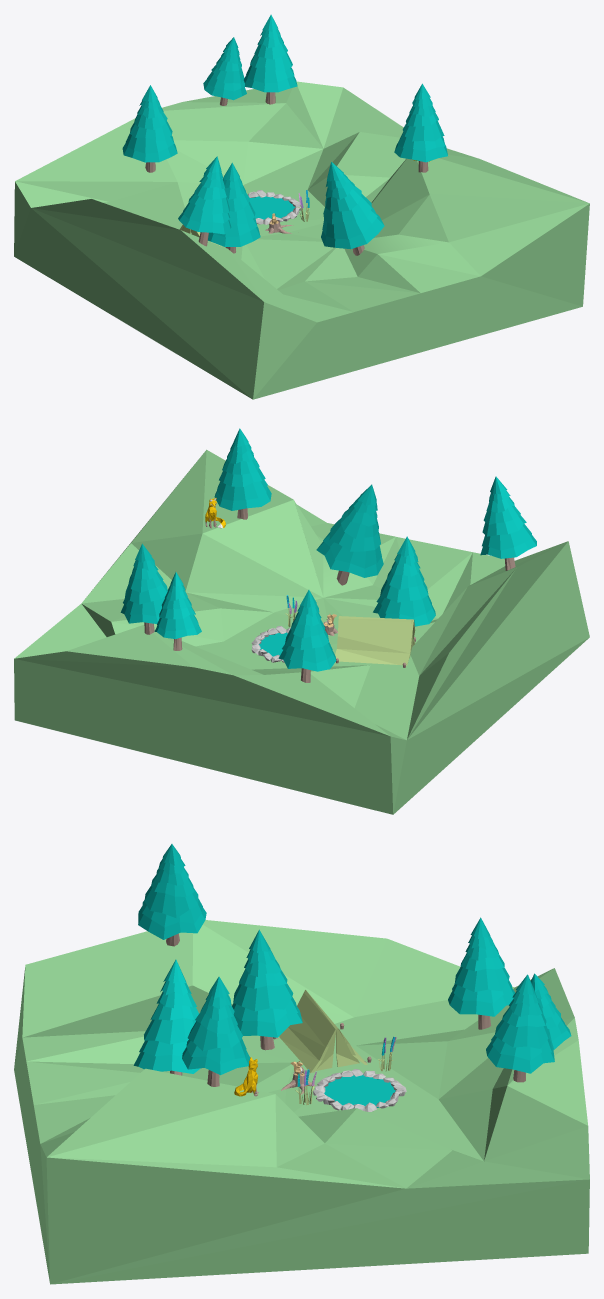
Rendered from camp.gltf.
3 views of the same model, one above another, from view 1: azimuth 30°, elevation 25°; view 2: azimuth 150°, elevation 25°; view 3: azimuth 270°, elevation 25° (orthographic). The views are drawn at different scales.
Visible parts, largest first — view 1: model; view 2: model; view 3: model.
Boxes of the visible parts, box(x1,y1,x2,y2) form: model: box(14, 14, 589, 399); model: box(14, 428, 589, 814); model: box(14, 844, 589, 1284).
Size of the model in its own units: 21.62 by 11.09 by 22.61.
